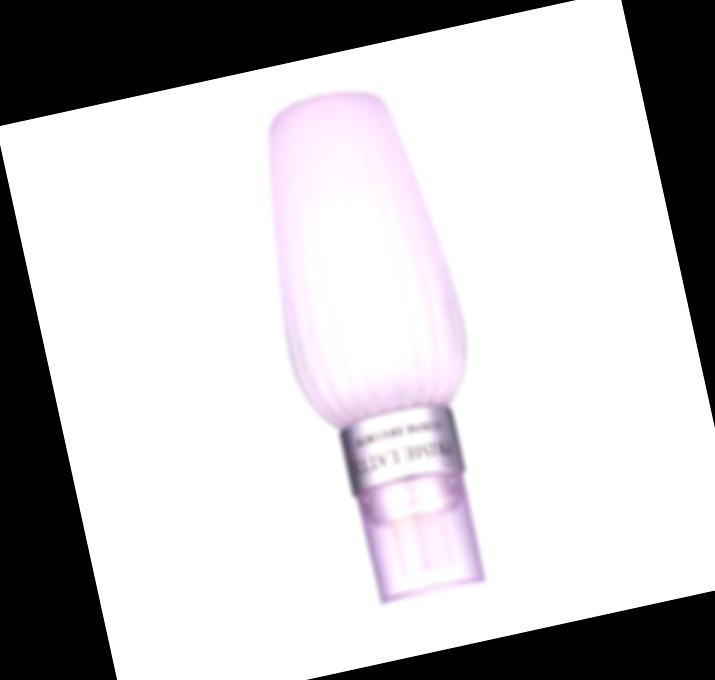cosmetic: (240, 73, 507, 617)
